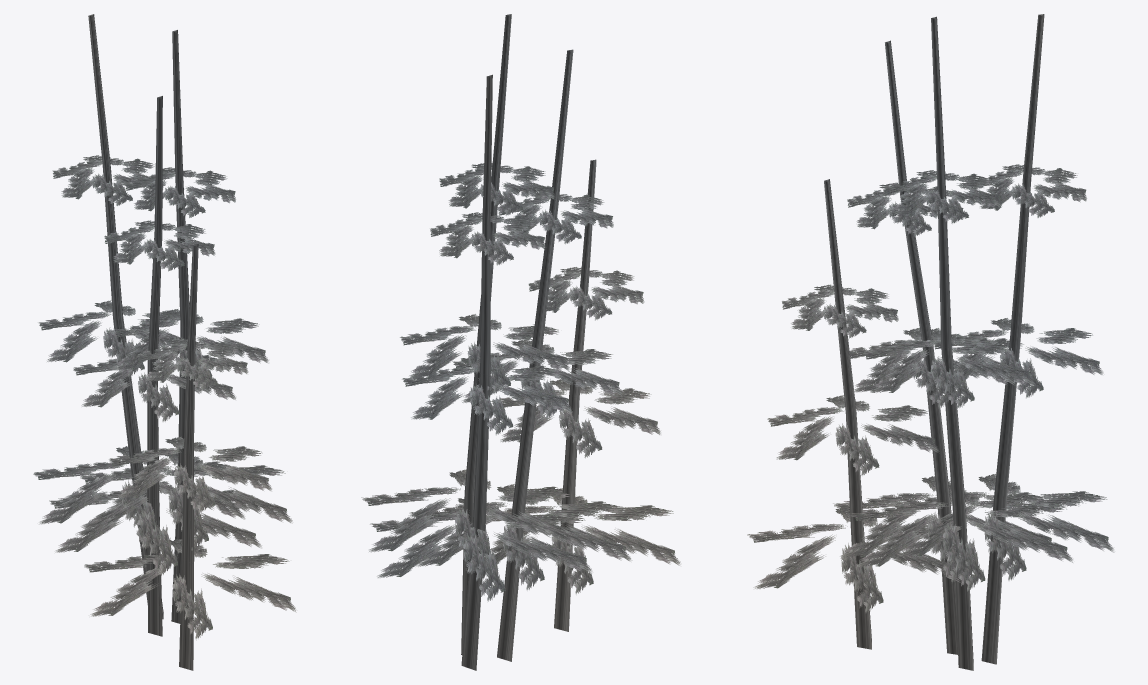
File: horsetail_l1.gltf
3 views of the same model, side by side, from view 1: azimuth 30°, elevation 25°; view 2: azimuth 150°, elevation 25°; view 3: azimuth 270°, elevation 25° (orthographic). The views are drawn at different scales.
Visible parts, largest first — view 1: horsetail_l1; view 2: horsetail_l1; view 3: horsetail_l1.
Part boxes in pixels (<box>): horsetail_l1: <box>33,14,296,670</box>; horsetail_l1: <box>361,14,680,670</box>; horsetail_l1: <box>747,14,1114,670</box>.
Bounding box in the file's own units: 0.6535 × 1.4 × 0.8026.
1 material, 1 textured.
